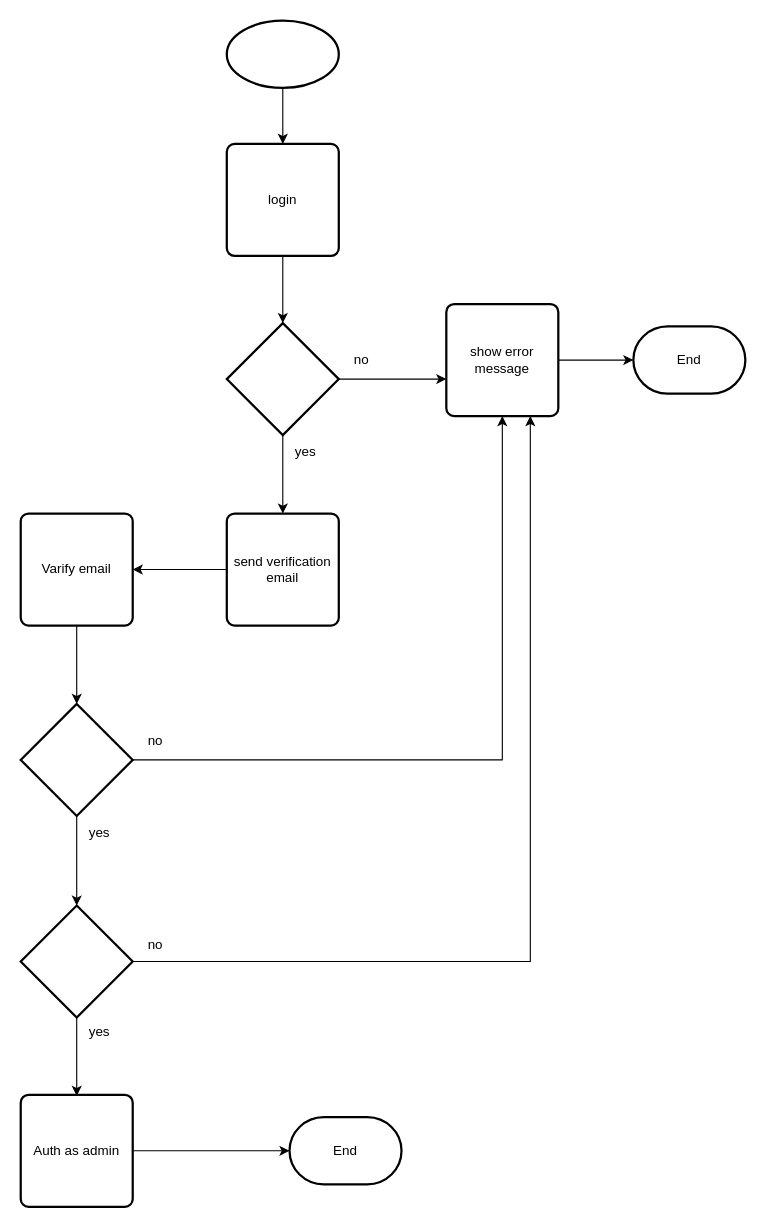
Some shapes in this 765 by 1226 pixel diagram are drawn without their labels. Here are the shapes that lost their labels. From the top down, the box of each, then its label:
(225, 19, 339, 88): Start
(225, 321, 339, 436): User exist
(19, 702, 133, 816): Token is valid
(19, 904, 133, 1018): Email is valid
